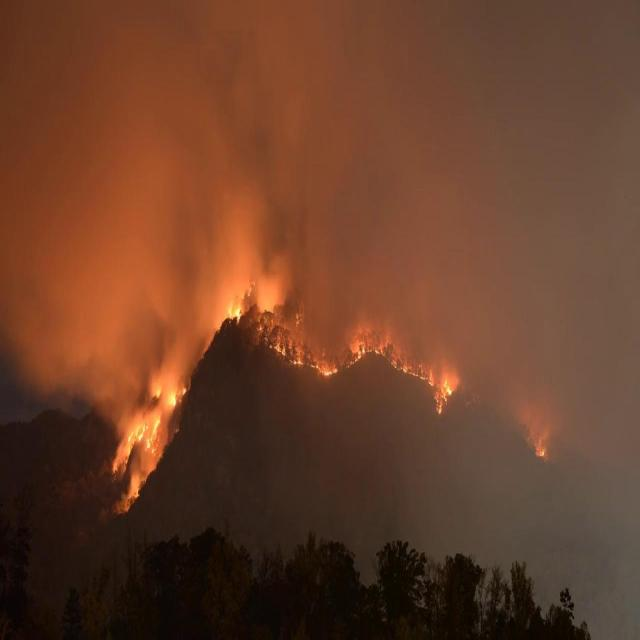Fire: (112, 420, 164, 514), (373, 345, 433, 389), (274, 342, 337, 373), (227, 279, 257, 325), (434, 379, 452, 415), (346, 348, 367, 368), (167, 388, 187, 406), (154, 384, 162, 400), (536, 446, 545, 459)
